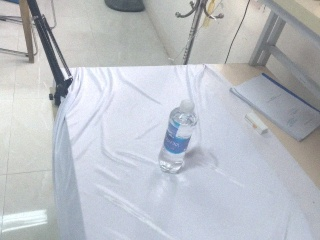bottle: (158, 99, 198, 174)
